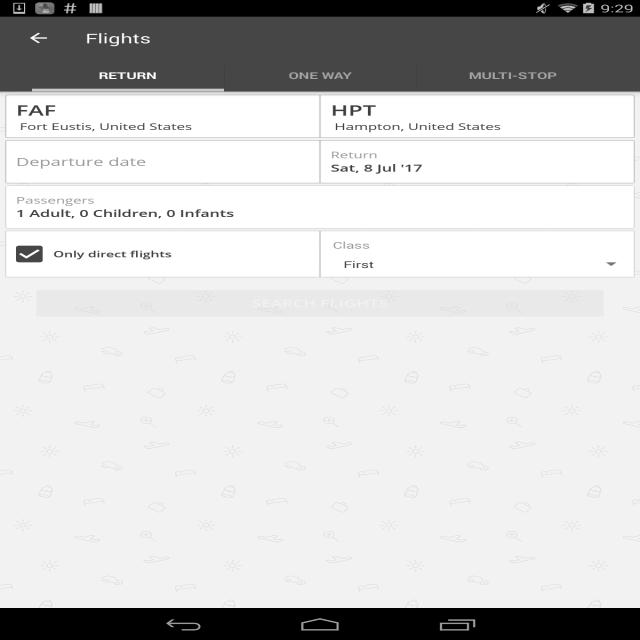Button: (32, 286, 608, 321)
CheckBox: (16, 246, 313, 262)
ImageButton: (9, 17, 68, 59)
Spinner: (333, 252, 622, 278)
TextView: (16, 206, 627, 220), (16, 194, 627, 206), (16, 100, 313, 120), (331, 100, 627, 120), (16, 154, 313, 169), (331, 161, 627, 175), (16, 120, 313, 133), (331, 120, 627, 133), (331, 148, 627, 161), (333, 239, 622, 251), (344, 258, 594, 271), (85, 29, 151, 47), (469, 69, 557, 82), (288, 69, 352, 82), (99, 69, 157, 82)
